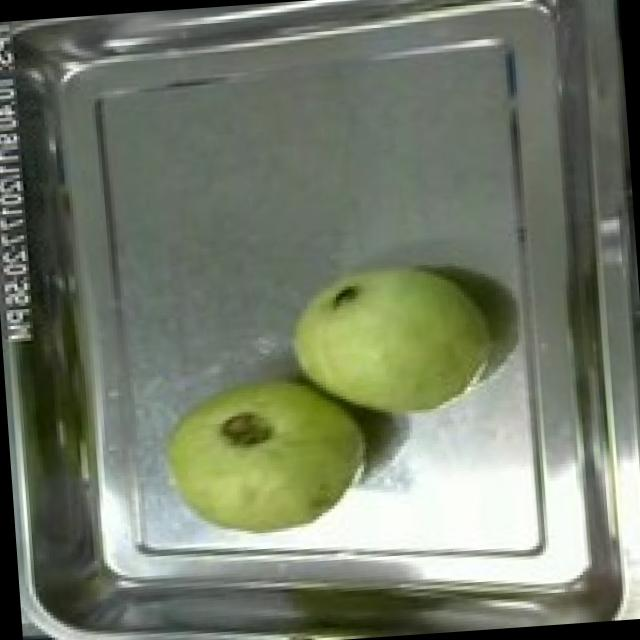Fruit: (144, 358, 383, 556), (271, 247, 504, 435)
